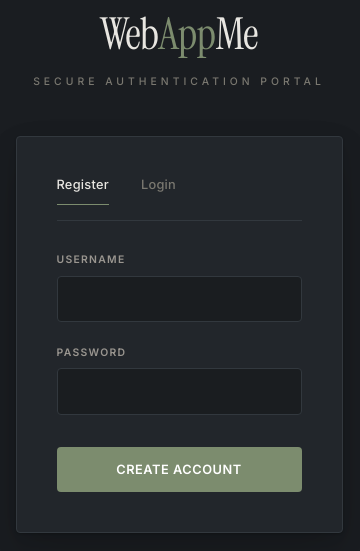
Test case: App › shows welcome screen on successful login
Click the button "Login": (158, 190) [141,177,176,204]
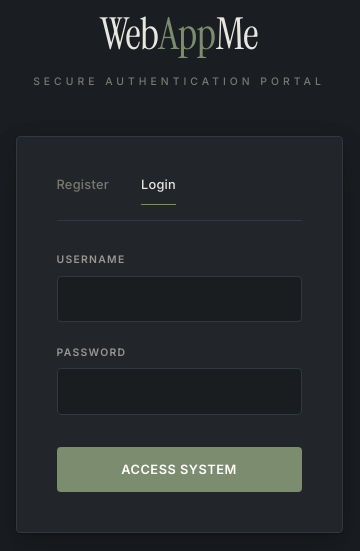
In the field labelled "Username": (179, 299) [56,276,302,322], type "testuser"
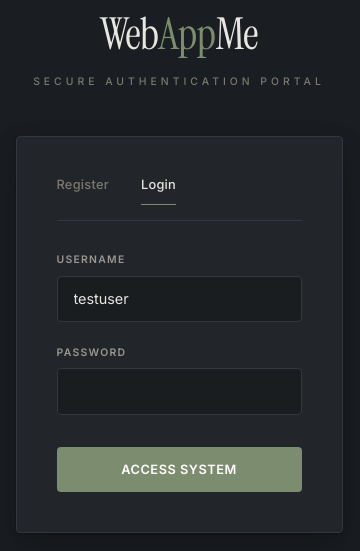
In the password field labelled "Password": (179, 392) [56,368,302,415], type "password"
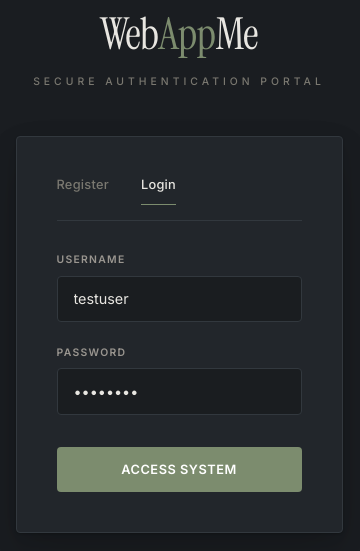
Click the button "Access System": (179, 469) [56,447,302,492]
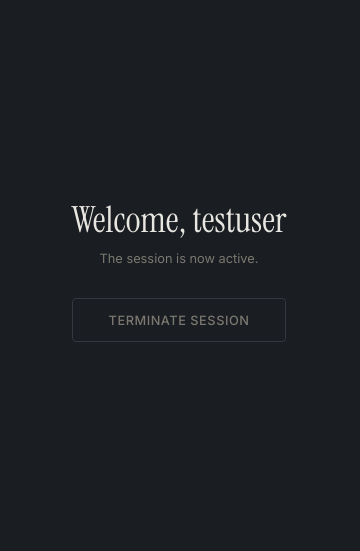
Result: the heading "Welcome, testuser" is shown at [72,196,286,243]
Result: the text "The session is now active." is shown at [100,251,258,266]
Result: the button "Terminate Session" is shown at [72,298,286,342]
